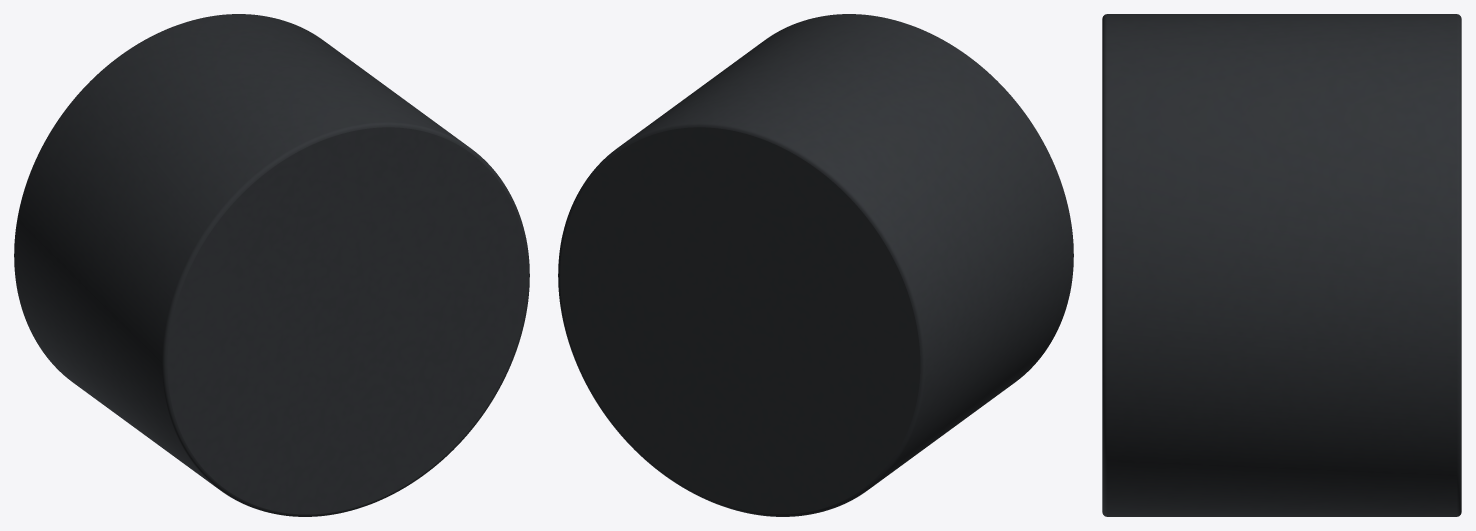
Rendered from right_arm_base_servo_black.obj.
3 renders of one model, left to right at view 1: azimuth 30°, elevation 25°; view 2: azimuth 150°, elevation 25°; view 3: azimuth 270°, elevation 25°, orthographic. The views are drawn at different scales.
Parts seen in each view (by area): view 1: right_arm_base__base_rotor; view 2: right_arm_base__base_rotor; view 3: right_arm_base__base_rotor.
Boxes of the visible parts, x1=… form: right_arm_base__base_rotor: x1=14, y1=14, x2=529, y2=516; right_arm_base__base_rotor: x1=558, y1=14, x2=1073, y2=516; right_arm_base__base_rotor: x1=1102, y1=14, x2=1461, y2=516.
Size of the model in its own units: 0.042 by 0.042 by 0.03.
Materials: 1 (1 with a texture image).
